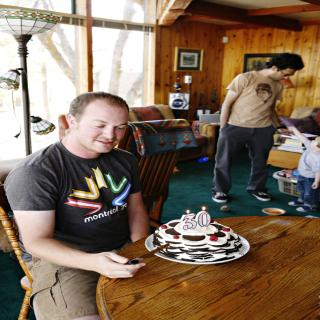Cake: (150, 219, 244, 263)
